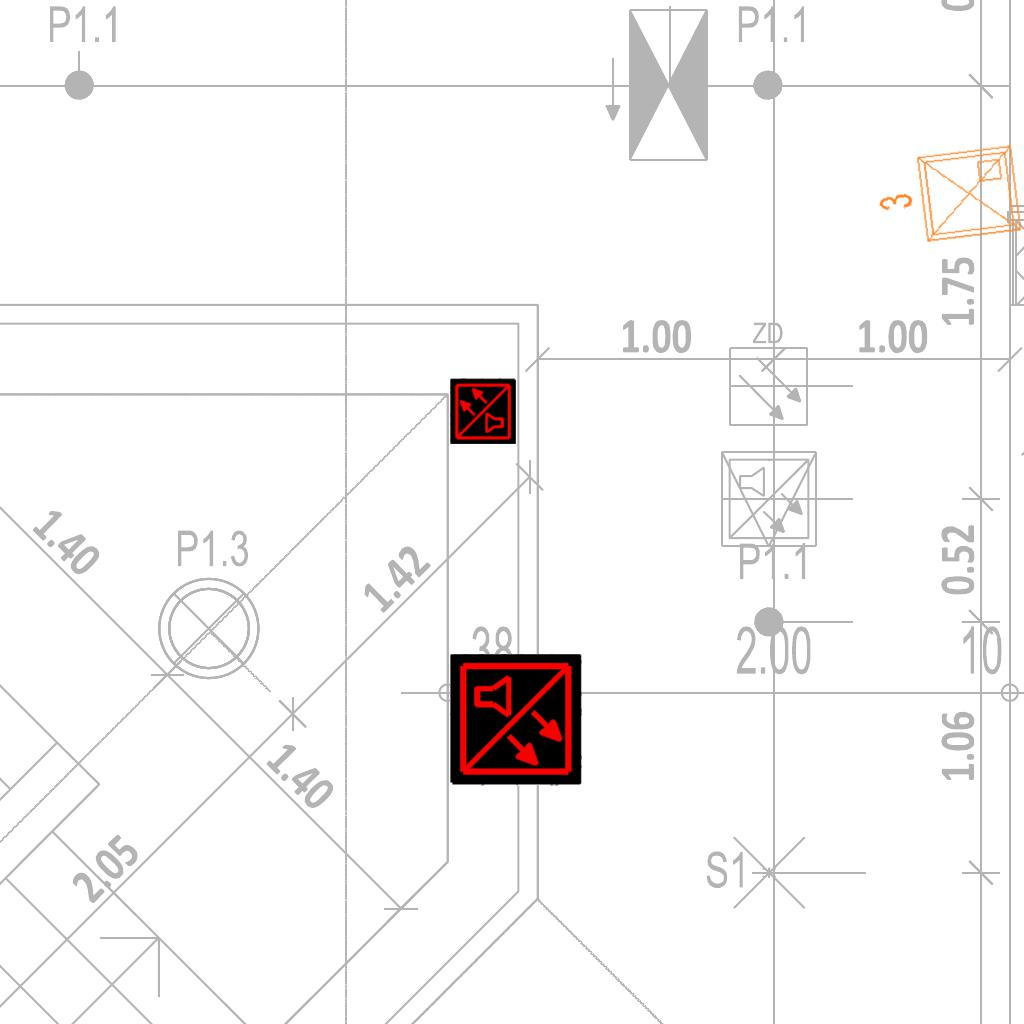Einbaudownlights_LED_Konferenzraeume: (868, 137, 1024, 259)
OKW_Multisensormelder_(Kombination_optischer_Rauch-Kahlenmonoxid_Waerme-Melder): (450, 654, 582, 786), (450, 378, 516, 444)
